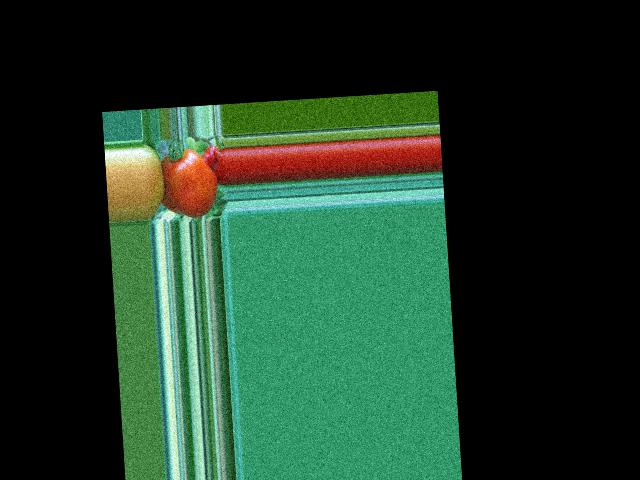tomato: (161, 147, 219, 219)
